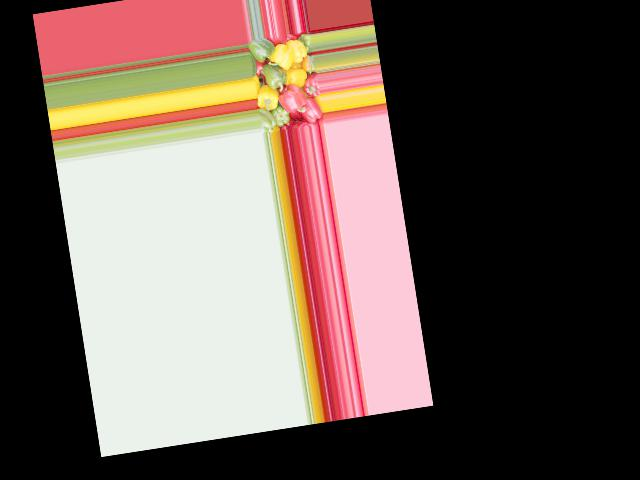bell_pepper: (299, 33, 313, 56)
